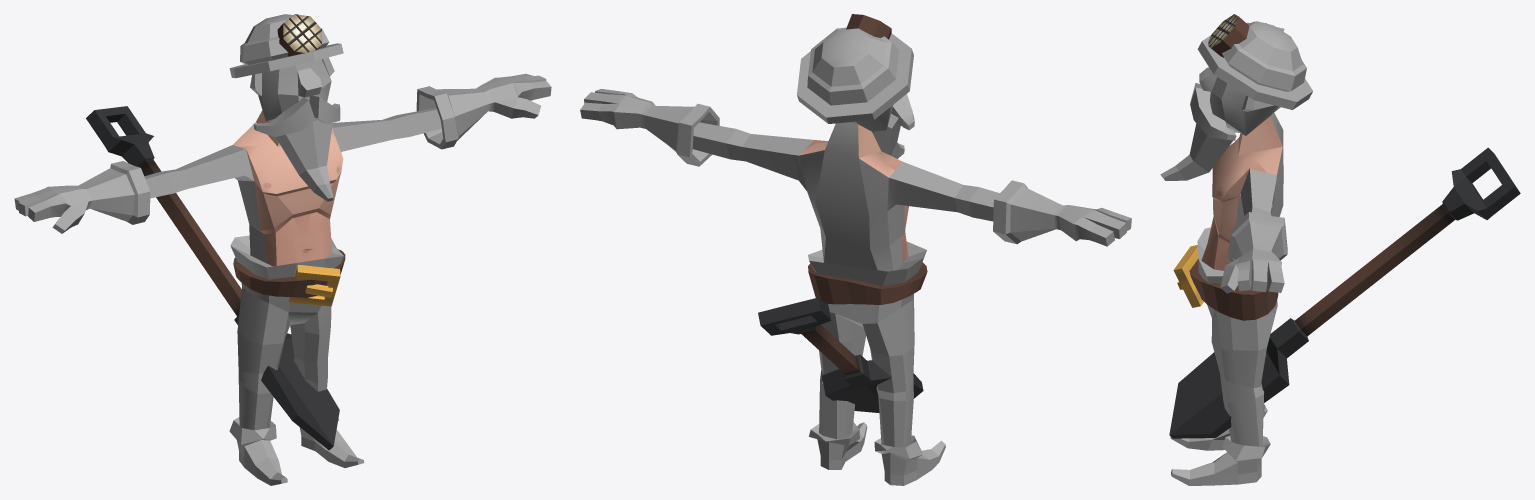
The model's file is Character-model-export (1).fbx.
The picture shows the model from 3 angles, left to right: view 1: azimuth 30°, elevation 25°; view 2: azimuth 150°, elevation 25°; view 3: azimuth 270°, elevation 25°; orthographic projection. The views are drawn at different scales.
Visible parts, largest first — view 1: polySurface22, polySurface26; view 2: polySurface22, polySurface26; view 3: polySurface22, polySurface26.
Part boxes in pixels (x1,y1,x2,y2): polySurface22: (14,14,551,485); polySurface26: (86,106,339,450); polySurface22: (580,14,1131,485); polySurface26: (758,297,923,412); polySurface22: (1160,14,1312,485); polySurface26: (1169,147,1520,438).
Bounding box in the file's own units: 17.93 × 14.52 × 10.54.
Materials: 2 (1 with a texture image).
